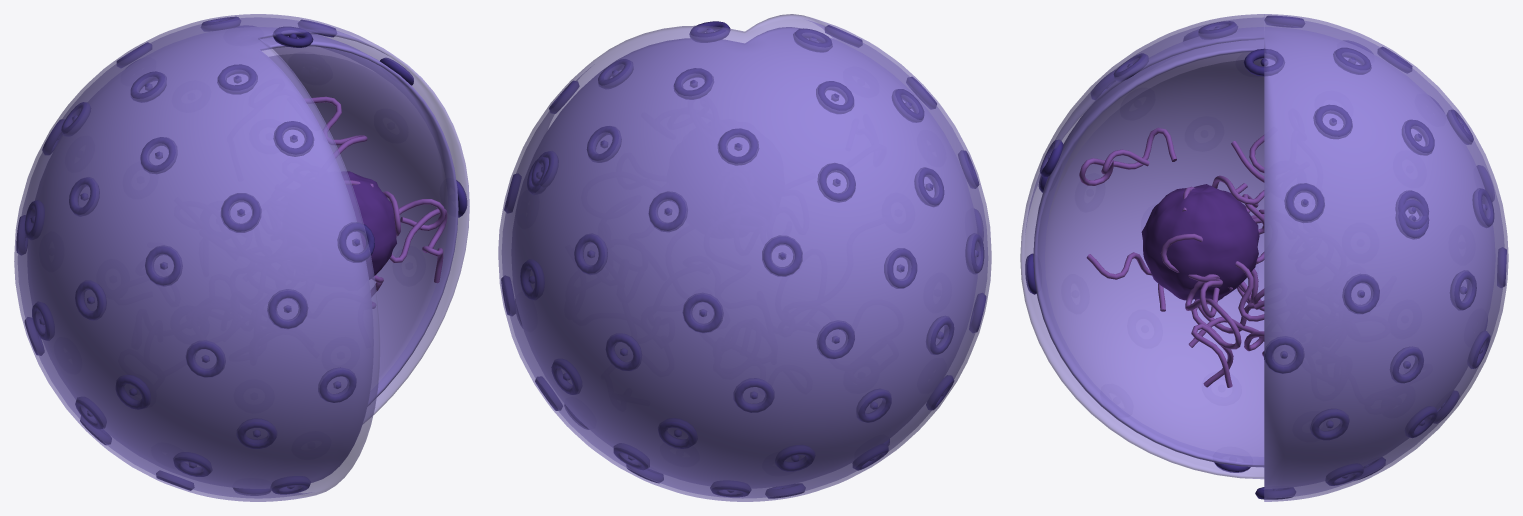
Rendered from nucleus.glb.
3 views of the same model, side by side, from view 1: azimuth 30°, elevation 25°; view 2: azimuth 150°, elevation 25°; view 3: azimuth 270°, elevation 25° (orthographic).
Parts seen in each view (by area): view 1: cz-envelope, cz-pores, cz-nucleoplasm, cz-chromatin, cz-nucleolus; view 2: cz-envelope, cz-pores; view 3: cz-envelope, cz-nucleoplasm, cz-pores, cz-nucleolus, cz-chromatin.
Boxes of the visible parts, x1,y1,x2,y2 form: cz-envelope: (14,14,469,501); cz-pores: (16,16,467,495); cz-nucleoplasm: (273,46,447,381); cz-chromatin: (304,96,447,308); cz-nucleolus: (341,171,396,279); cz-envelope: (498,14,991,501); cz-pores: (501,21,986,498); cz-envelope: (1020,14,1508,501); cz-nucleoplasm: (1045,52,1263,456); cz-pores: (1025,15,1506,499); cz-nucleolus: (1141,184,1259,300); cz-chromatin: (1079,127,1264,387).
Bounding box in the file's own units: 16.9 × 16.9 × 16.9.
